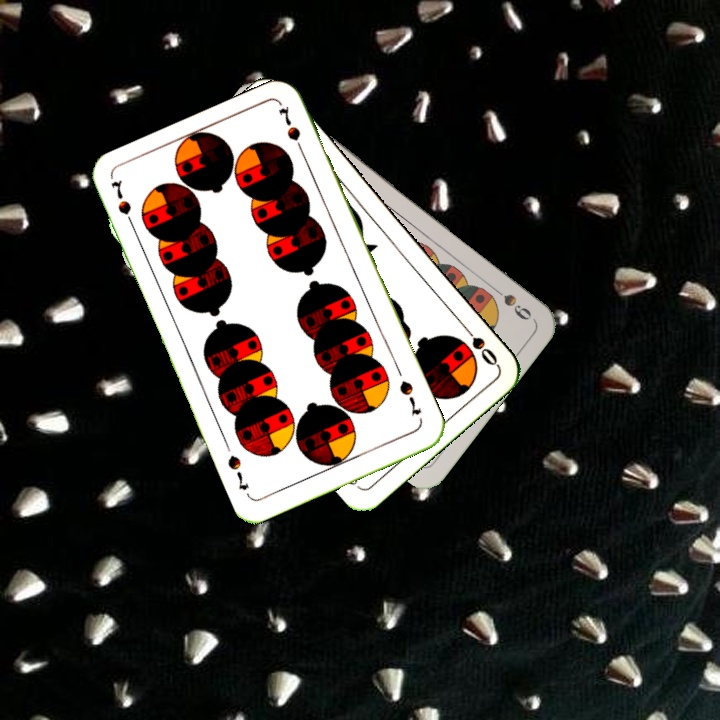S7: (107, 176, 138, 233), (395, 376, 424, 418)
S9: (484, 280, 535, 323)
SO: (457, 319, 500, 369)
